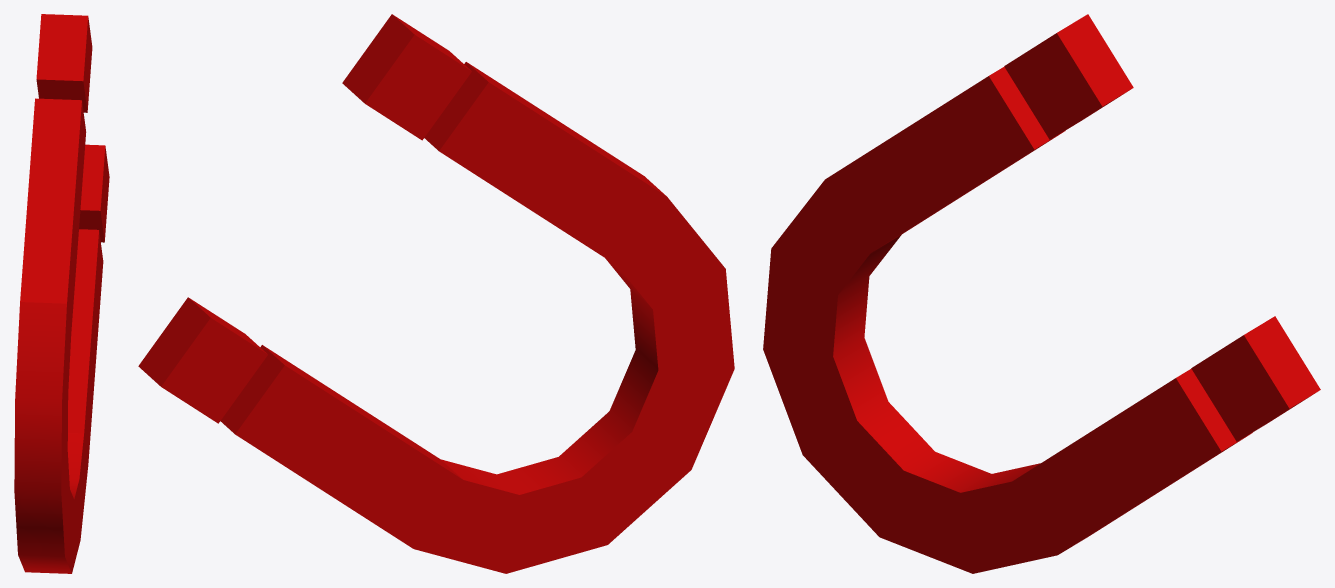
File: SM_MagnetIcon.FBX
3 views of the same model, side by side, from view 1: azimuth 30°, elevation 25°; view 2: azimuth 150°, elevation 25°; view 3: azimuth 270°, elevation 25° (orthographic). The views are drawn at different scales.
Visible parts, largest first — view 1: SM_MagnetIcon; view 2: SM_MagnetIcon; view 3: SM_MagnetIcon.
Part boxes in pixels (<box>): SM_MagnetIcon: <box>14,14,109,573</box>; SM_MagnetIcon: <box>138,14,734,573</box>; SM_MagnetIcon: <box>763,14,1320,573</box>.
Size of the model in its own units: 11.22 by 15.14 by 16.95.
